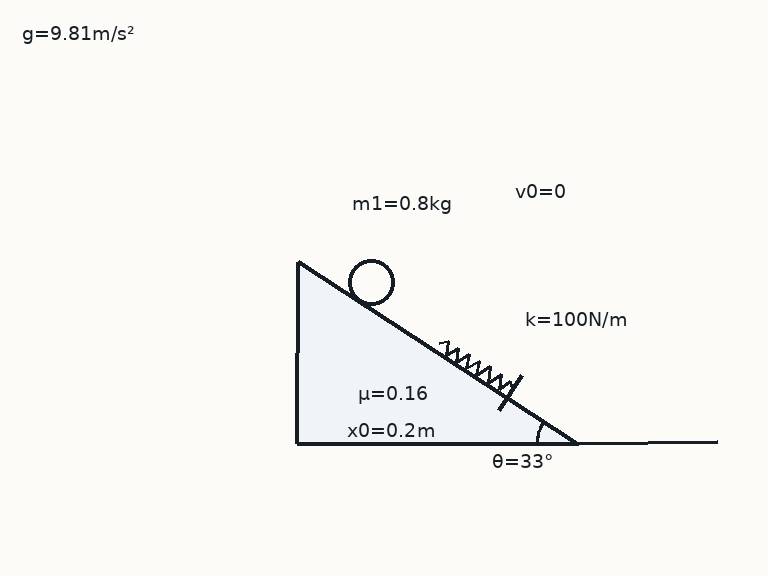ball: (346, 257, 396, 307)
ramp: (295, 259, 579, 445)
spring: (437, 338, 514, 392)
